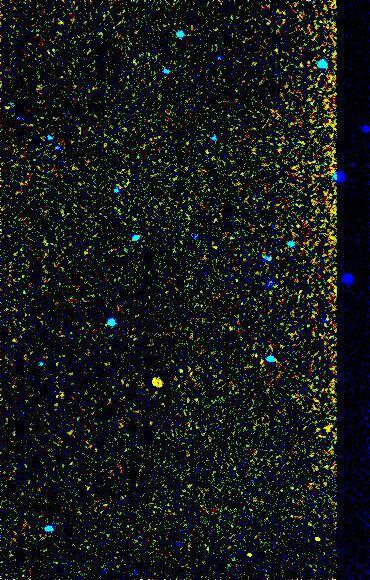star: (235, 541, 265, 571)
